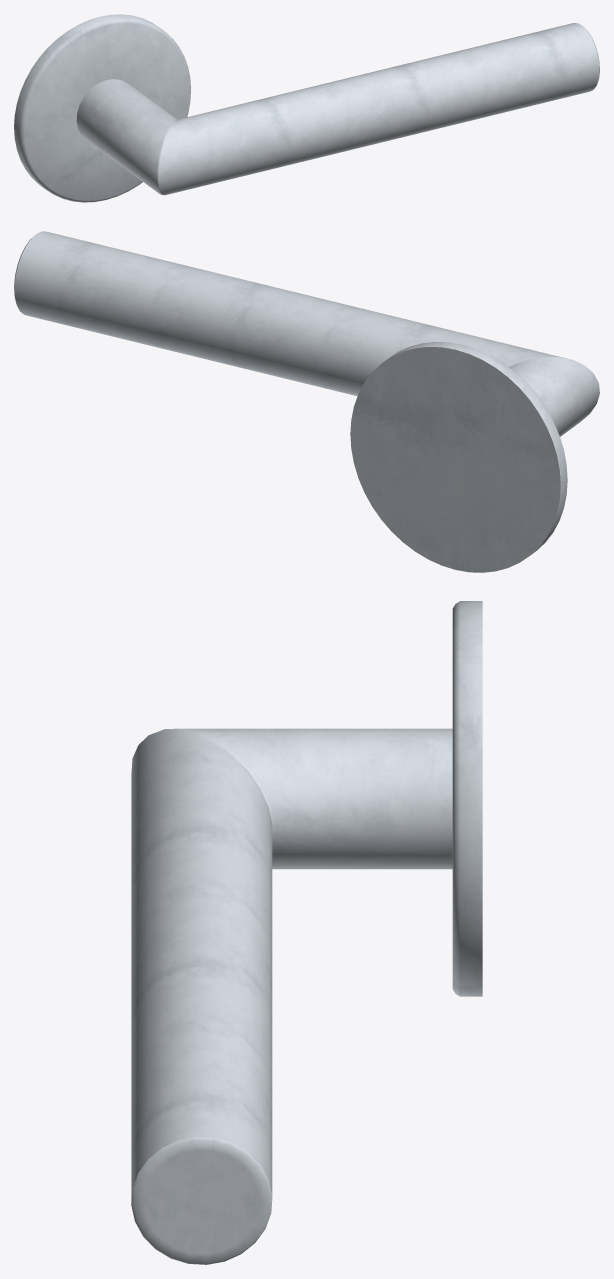
File: door_handle_3.glb
3 renders of one model, top to bottom at view 1: azimuth 30°, elevation 25°; view 2: azimuth 150°, elevation 25°; view 3: azimuth 270°, elevation 25°, orthographic. The views are drawn at different scales.
Parts seen in each view (by area): view 1: DoorHandle3; view 2: DoorHandle3; view 3: DoorHandle3.
Boxes of the visible parts, x1,y1,x2,y2 form: DoorHandle3: [14, 14, 599, 202]; DoorHandle3: [14, 231, 599, 572]; DoorHandle3: [131, 601, 482, 1264].
Size of the model in its own units: 0.1542 by 0.053 by 0.047.
Materials: 1 (1 with a texture image).
